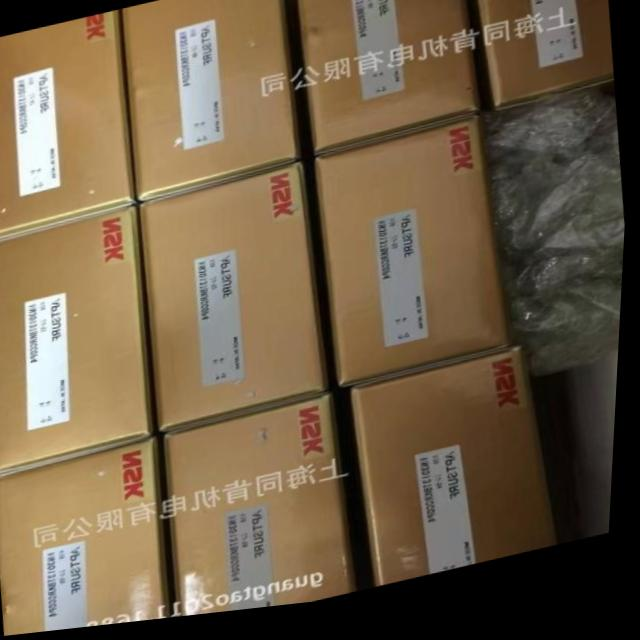box: (317, 126, 517, 395), (141, 168, 333, 437), (353, 358, 564, 596), (168, 399, 364, 622), (0, 208, 161, 477), (121, 0, 303, 205), (0, 440, 178, 637), (0, 12, 140, 240), (296, 0, 482, 163), (475, 0, 615, 123)
